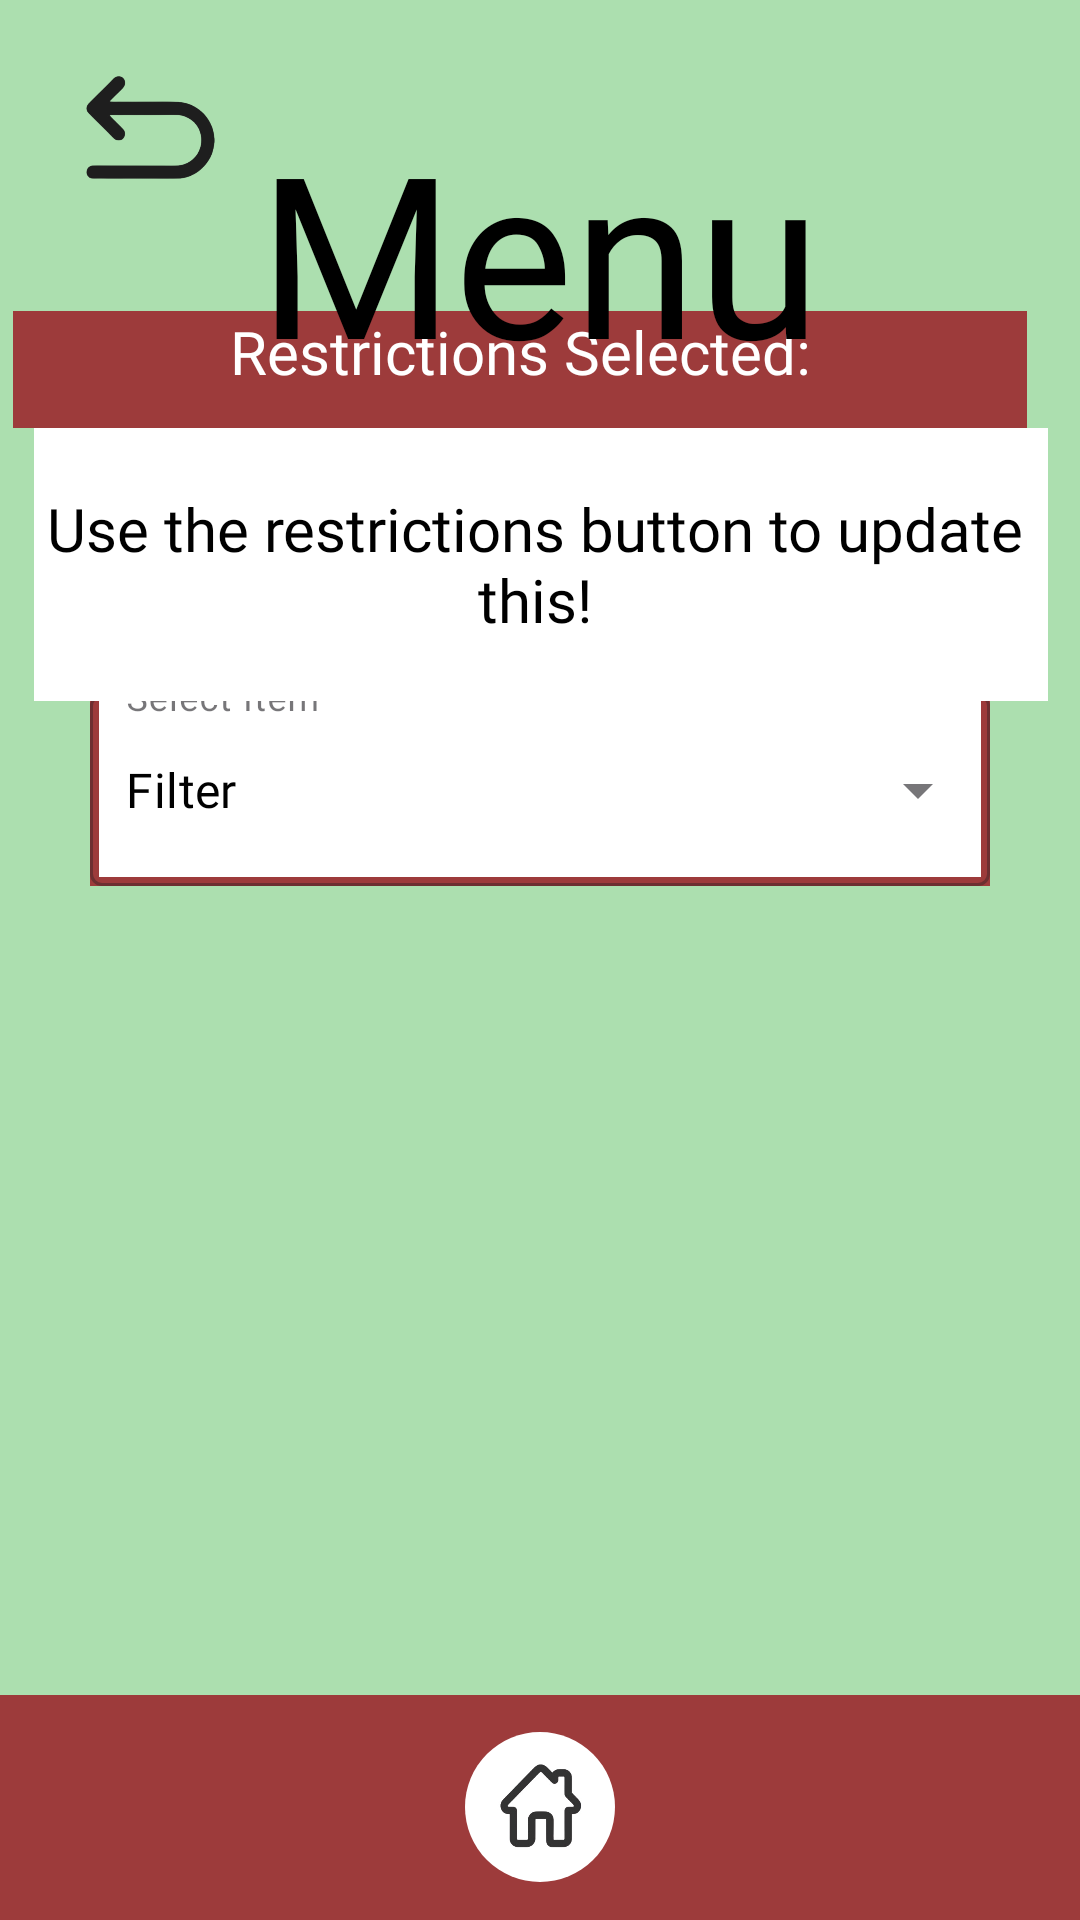

Named icons in this screenshot (1080*1920) and their centers, point (x, y):
back: point (150, 127)
Home: point (540, 1807)
